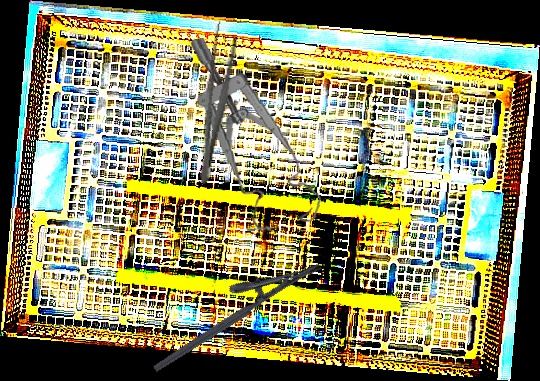Dressing Forceps: (191, 20, 240, 186)
Needle Holder: (138, 239, 323, 374)
Speculum: (187, 29, 325, 237)
